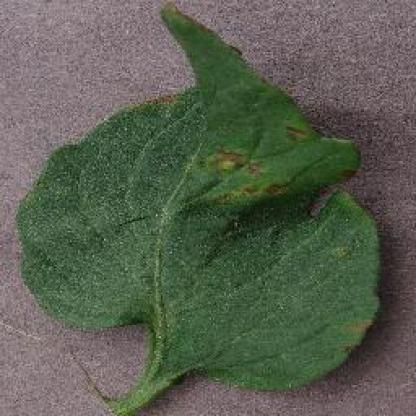bad leaf: (0, 15, 387, 413)
